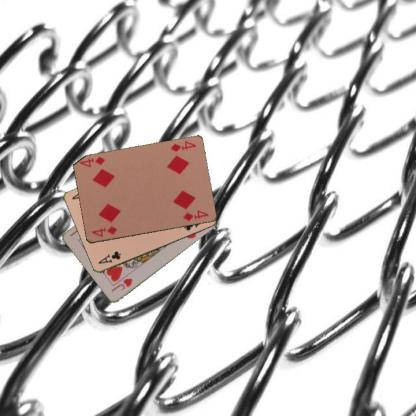4d: (168, 138, 197, 154), (89, 224, 118, 238)
Ac: (95, 249, 122, 266)
Jh: (108, 275, 134, 294)
